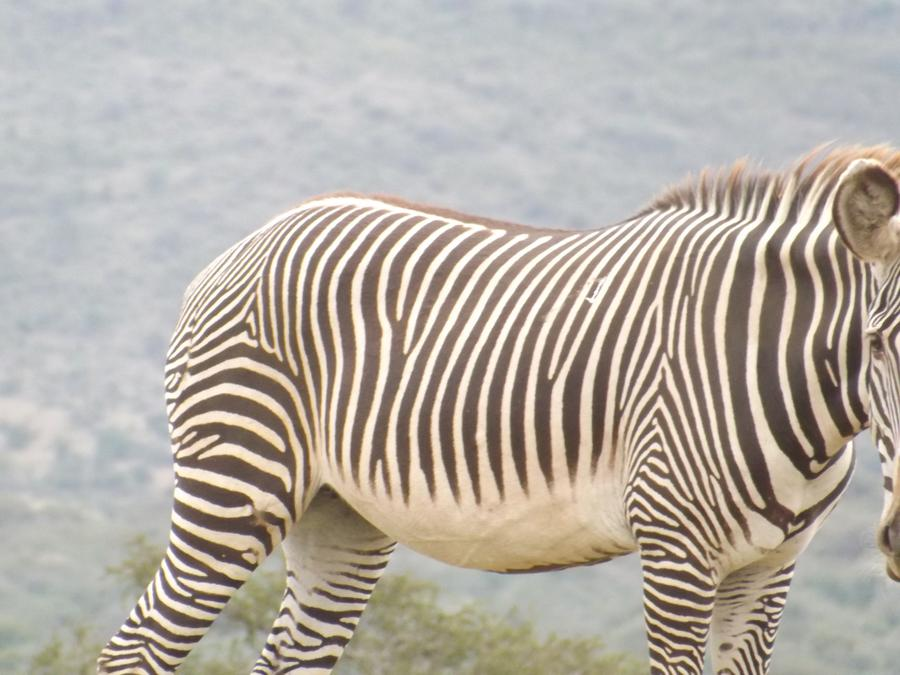zebra_grevys: (161, 150, 727, 549)
